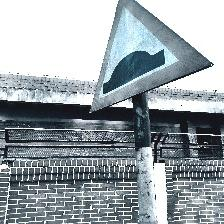Speed-breaker: (88, 0, 213, 113)
